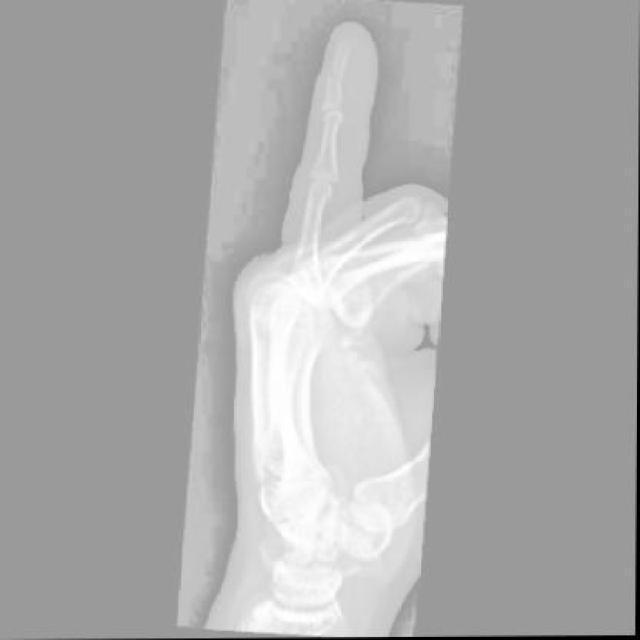Fracture: (320, 57, 350, 100)
